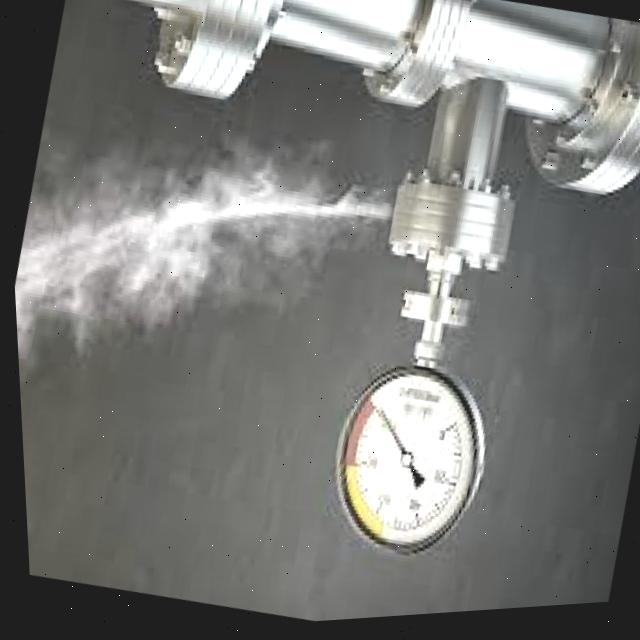corrosion: (191, 80, 440, 297)
